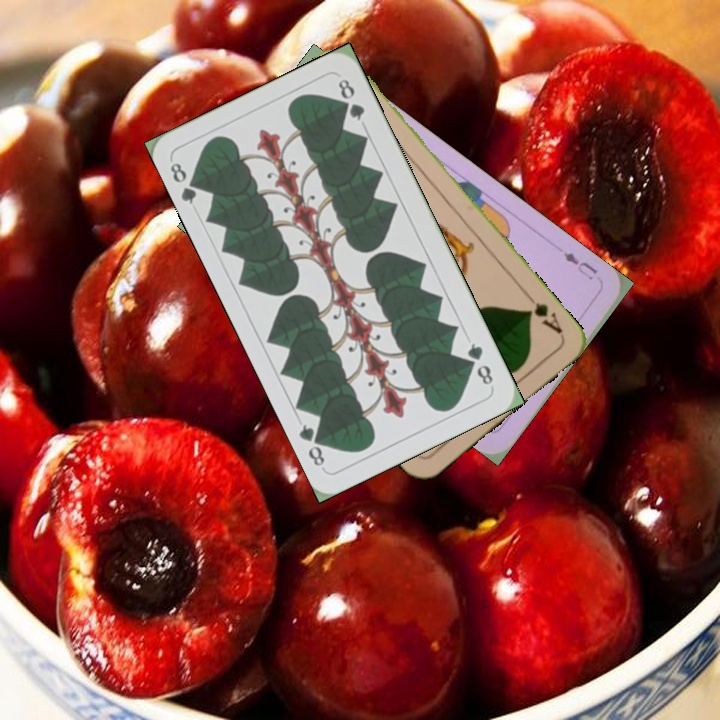EU: (559, 248, 600, 283)
G8: (165, 158, 205, 207), (463, 338, 496, 388)
GA: (522, 289, 566, 337)
